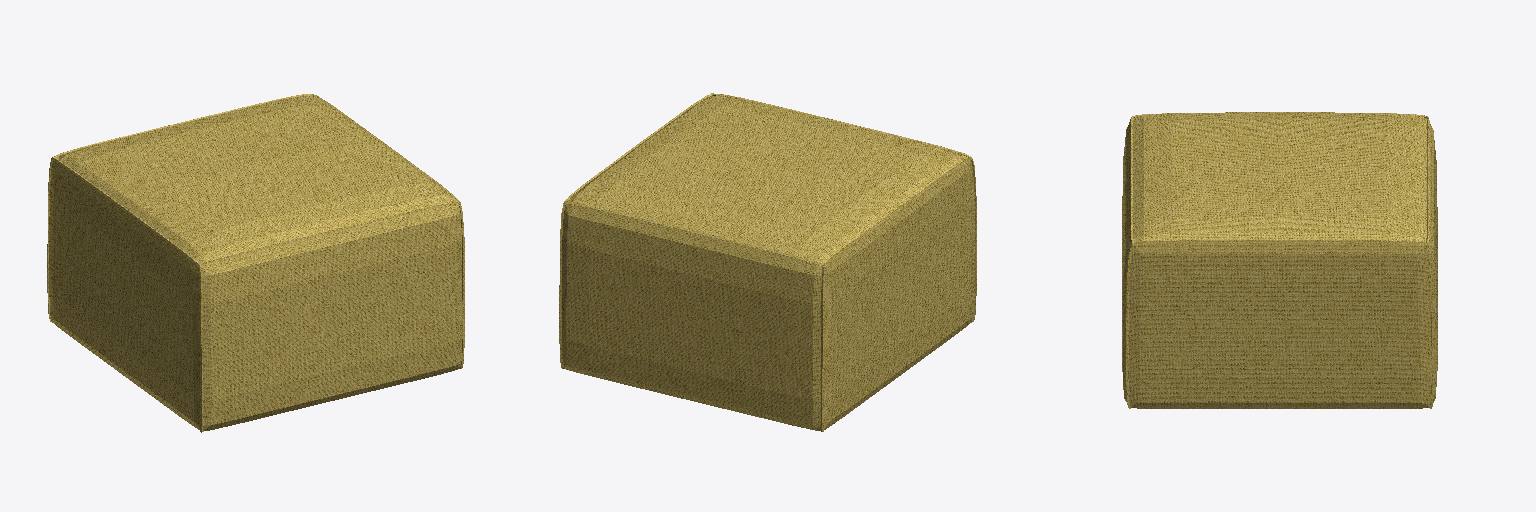
3 views of the same model, side by side, from view 1: azimuth 30°, elevation 25°; view 2: azimuth 150°, elevation 25°; view 3: azimuth 270°, elevation 25° (orthographic).
Parts seen in each view (by area): view 1: Box854; view 2: Box854; view 3: Box854.
Part boxes in pixels (x1,y1,x2,y2): Box854: (47,94,464,432); Box854: (559,93,976,431); Box854: (1122,112,1437,408).
Size of the model in its own units: 63.93 by 41.75 by 65.76.
1 materials, 1 textured.